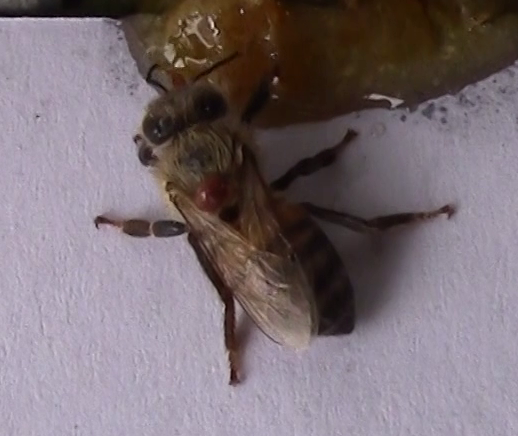Varroa destructor: (191, 171, 233, 213)
